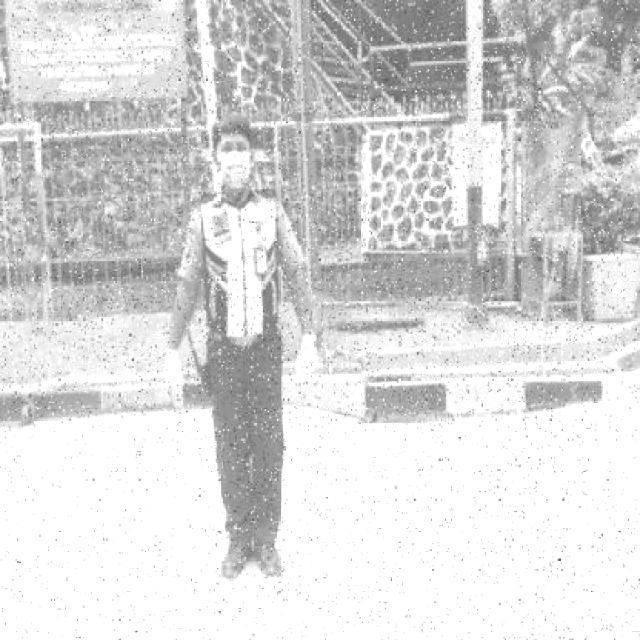Boots: (218, 543, 254, 582), (252, 540, 283, 578)
Gloves: (293, 332, 322, 376), (162, 347, 186, 395)
